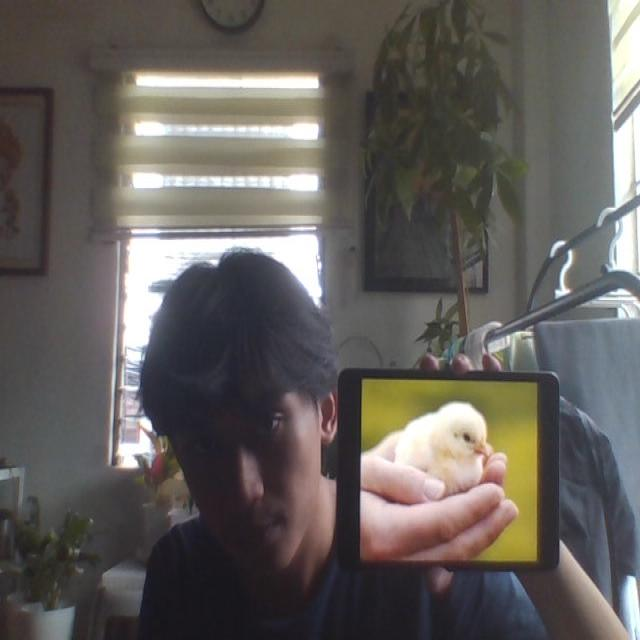Healthy: (395, 398, 489, 504)
